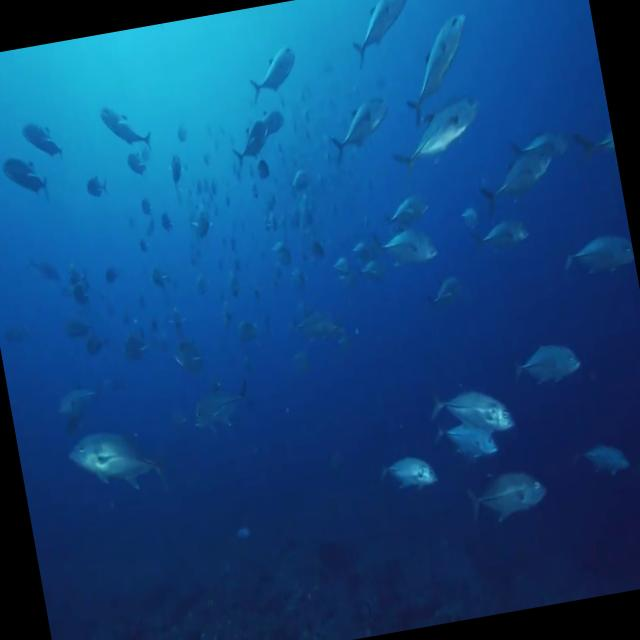fish: (390, 6, 488, 134), (388, 89, 492, 188), (64, 408, 174, 489), (455, 460, 557, 530), (426, 380, 523, 450), (343, 0, 425, 72), (382, 442, 440, 498)
